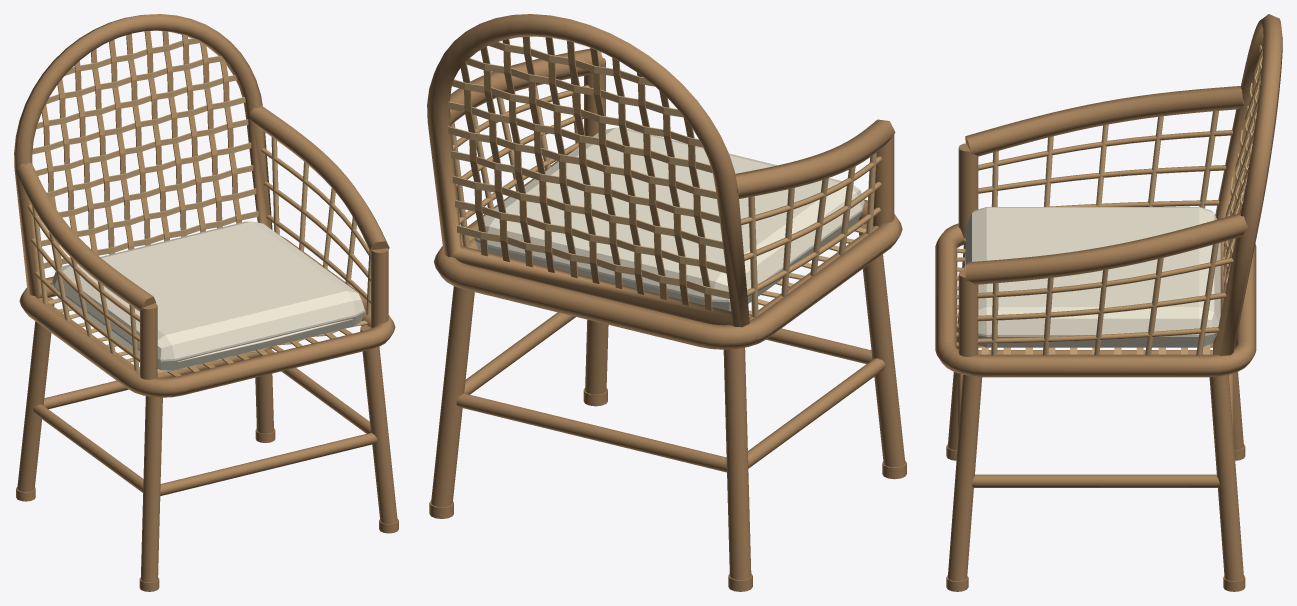
The model's file is wicker_armchair.glb.
The picture shows the model from 3 angles, left to right: view 1: azimuth 30°, elevation 25°; view 2: azimuth 150°, elevation 25°; view 3: azimuth 270°, elevation 25°; orthographic projection. The views are drawn at different scales.
Parts seen in each view (by area): view 1: Armchair rounded seat cushion, Armchair arched woven back rim, Armchair rounded seat frame, Armchair rounded arm rail -1, Armchair rounded arm rail 1, Armchair sturdy cane leg, Armchair sturdy cane leg.002, Armchair sturdy cane leg.001, Armchair cross leg stretcher, Armchair side leg stretcher, Armchair cross leg stretcher.001, Armchair front arm support 1 (+31 smaller); view 2: Armchair rounded seat cushion, Armchair arched woven back rim, Armchair rounded seat frame, Armchair sturdy cane leg.001, Armchair sturdy cane leg.003, Armchair sturdy cane leg, Armchair rounded arm rail -1, Armchair cross leg stretcher.001, Armchair side leg stretcher, Armchair rounded arm rail 1, Armchair back horizontal weave 02, Armchair back horizontal weave 00 (+28 smaller); view 3: Armchair rounded seat cushion, Armchair rounded seat frame, Armchair arched woven back rim, Armchair rounded arm rail 1, Armchair rounded arm rail -1, Armchair sturdy cane leg.002, Armchair sturdy cane leg.003, Armchair side leg stretcher.001, Armchair front arm support 1, Armchair front arm support -1, Armchair woven side cross cane.002, Armchair woven side cross cane.005 (+14 smaller).
Part boxes in pixels (x1=…): Armchair rounded seat cushion: x1=52, y1=221, x2=364, y2=370; Armchair arched woven back rim: x1=14, y1=14, x2=272, y2=298; Armchair rounded seat frame: x1=19, y1=235, x2=395, y2=397; Armchair rounded arm rail -1: x1=15, y1=163, x2=155, y2=311; Armchair rounded arm rail 1: x1=249, y1=105, x2=389, y2=251; Armchair sturdy cane leg: x1=141, y1=377, x2=162, y2=582; Armchair sturdy cane leg.002: x1=360, y1=325, x2=397, y2=523; Armchair sturdy cane leg.001: x1=17, y1=297, x2=54, y2=491; Armchair cross leg stretcher: x1=160, y1=433, x2=377, y2=495; Armchair side leg stretcher: x1=33, y1=404, x2=143, y2=492; Armchair cross leg stretcher.001: x1=43, y1=352, x2=260, y2=409; Armchair front arm support 1: x1=371, y1=248, x2=388, y2=328; Armchair rounded seat cushion: x1=475, y1=127, x2=864, y2=311; Armchair arched woven back rim: x1=427, y1=14, x2=749, y2=327; Armchair rounded seat frame: x1=434, y1=154, x2=902, y2=349; Armchair sturdy cane leg.001: x1=723, y1=347, x2=751, y2=579; Armchair sturdy cane leg.003: x1=431, y1=286, x2=474, y2=507; Armchair sturdy cane leg: x1=859, y1=224, x2=905, y2=467; Armchair rounded arm rail -1: x1=735, y1=119, x2=895, y2=198; Armchair cross leg stretcher.001: x1=456, y1=393, x2=726, y2=472; Armchair side leg stretcher: x1=748, y1=358, x2=885, y2=468; Armchair rounded arm rail 1: x1=449, y1=48, x2=604, y2=124; Armchair back horizontal weave 02: x1=452, y1=175, x2=723, y2=248; Armchair back horizontal weave 00: x1=457, y1=225, x2=729, y2=298; Armchair rounded seat cushion: x1=965, y1=207, x2=1220, y2=347; Armchair rounded seat frame: x1=935, y1=223, x2=1256, y2=377; Armchair arched woven back rim: x1=1213, y1=14, x2=1282, y2=355; Armchair rounded arm rail 1: x1=965, y1=213, x2=1248, y2=284; Armchair rounded arm rail -1: x1=965, y1=86, x2=1244, y2=156; Armchair sturdy cane leg.002: x1=948, y1=354, x2=982, y2=581; Armchair sturdy cane leg.003: x1=1209, y1=354, x2=1243, y2=581; Armchair side leg stretcher.001: x1=972, y1=474, x2=1219, y2=487; Armchair front arm support 1: x1=958, y1=270, x2=978, y2=356; Armchair front arm support -1: x1=958, y1=143, x2=978, y2=241; Armchair woven side cross cane.002: x1=978, y1=130, x2=1232, y2=170; Armchair woven side cross cane.005: x1=977, y1=257, x2=1233, y2=298.
Bounding box in the file's own units: 0.662 × 0.9789 × 0.6272.
